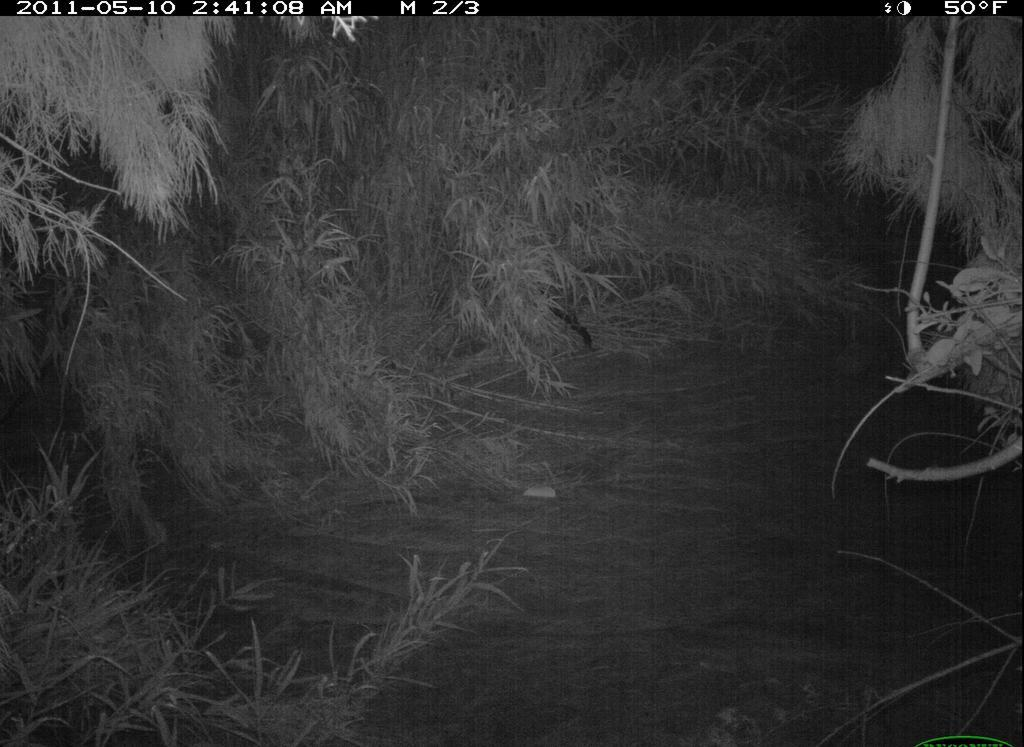opossum: (829, 322, 895, 392)
